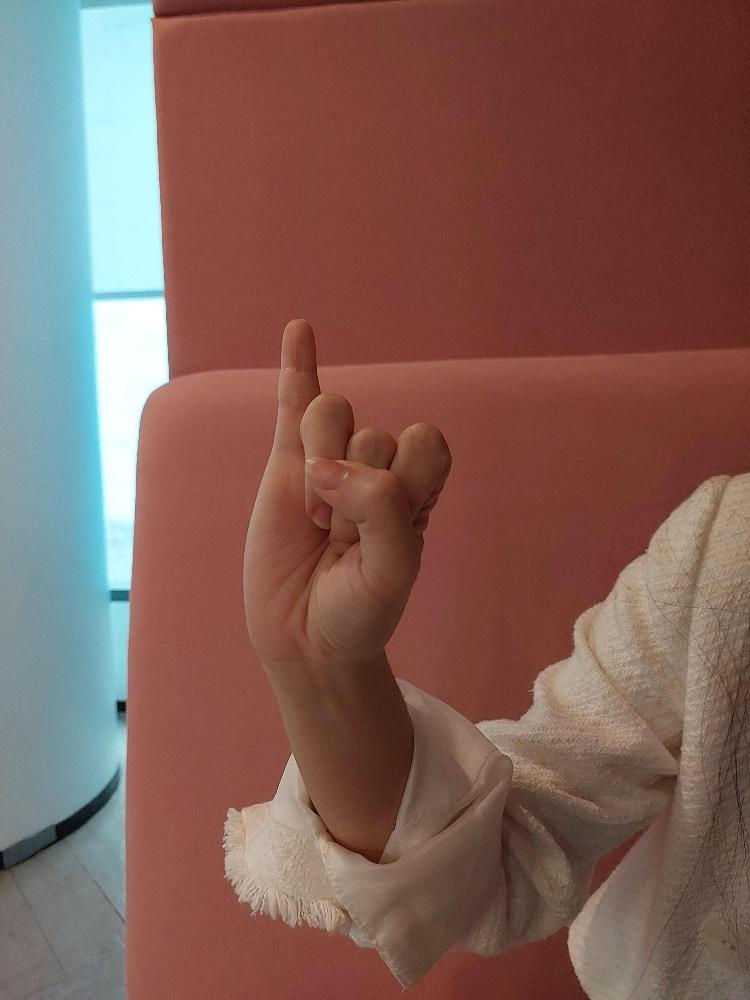i: (241, 317, 452, 651)
